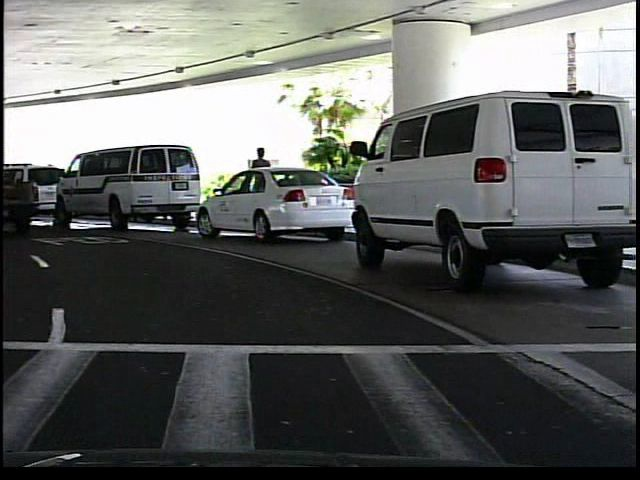person: (247, 144, 274, 221)
